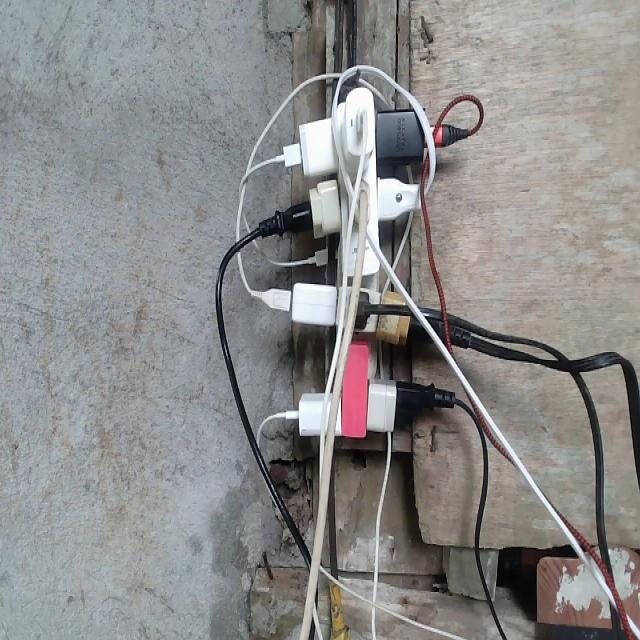-: (228, 80, 502, 444)
